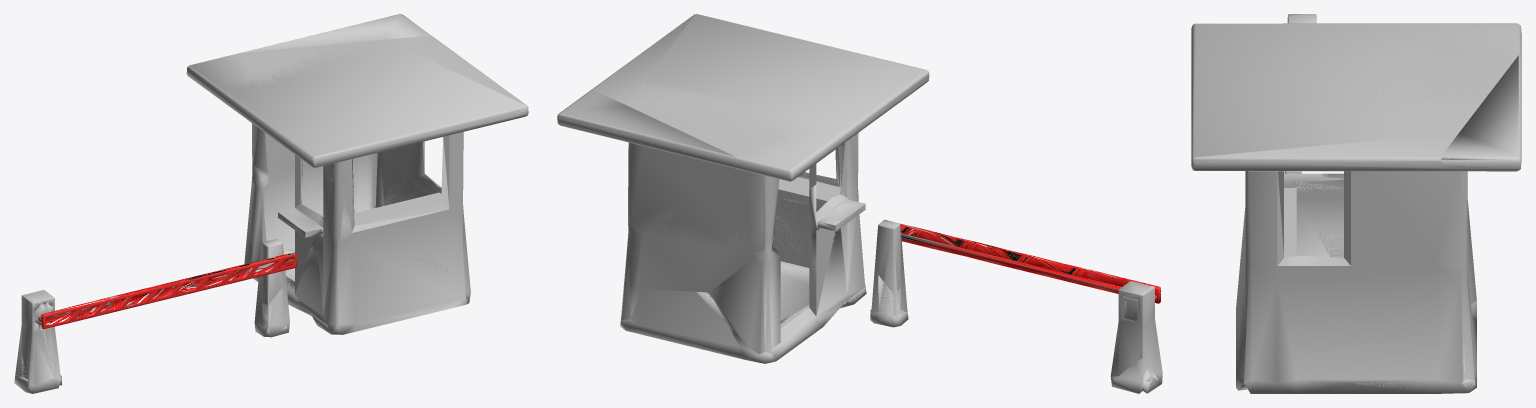
Rendered from Checkpoint.fbx.
The picture shows the model from 3 angles, left to right: view 1: azimuth 30°, elevation 25°; view 2: azimuth 150°, elevation 25°; view 3: azimuth 270°, elevation 25°; orthographic projection. The views are drawn at different scales.
Visible parts, largest first — view 1: Guard House, Guard House_cell, Guard House_cell.004, Gate Stands, Gate Fence, Guard House_cell.003, Guard House_cell.001, Gate Stands_cell, Gate Stands_cell.003, Gate Fence_cell.007; view 2: Guard House, Guard House_cell, Guard House_cell.004, Guard House_cell.001, Gate Stands, Gate Fence, Guard House_cell.003, Guard House_cell.002, Gate Stands_cell.003, Gate Stands_cell.002, Gate Stands_cell.004, Gate Fence_cell.007 (+1 smaller); view 3: Guard House, Guard House_cell.004, Guard House_cell.003, Guard House_cell.001, Guard House_cell, Guard House_cell.002, Gate Stands.
Boxes of the visible parts, x1,y1,x2,y2 form: Guard House: [186, 36, 526, 334]; Guard House_cell: [245, 123, 463, 334]; Guard House_cell.004: [186, 35, 528, 167]; Gate Stands: [14, 239, 289, 393]; Gate Fence: [38, 252, 296, 329]; Guard House_cell.003: [239, 14, 431, 53]; Guard House_cell.001: [262, 177, 447, 315]; Gate Stands_cell: [21, 290, 61, 393]; Gate Stands_cell.003: [262, 239, 282, 304]; Gate Fence_cell.007: [232, 254, 297, 279]; Guard House: [557, 14, 929, 354]; Guard House_cell: [620, 134, 866, 363]; Guard House_cell.004: [593, 15, 928, 179]; Guard House_cell.001: [710, 133, 864, 363]; Gate Stands: [871, 220, 1162, 393]; Gate Fence: [882, 219, 1160, 302]; Guard House_cell.003: [558, 90, 736, 158]; Guard House_cell.002: [620, 287, 742, 359]; Gate Stands_cell.003: [878, 223, 900, 292]; Gate Stands_cell.002: [870, 275, 908, 327]; Gate Stands_cell.004: [1110, 359, 1152, 393]; Gate Fence_cell.007: [900, 224, 953, 251]; Guard House: [1191, 23, 1521, 393]; Guard House_cell.004: [1191, 23, 1518, 171]; Guard House_cell.003: [1441, 55, 1520, 168]; Guard House_cell.001: [1292, 173, 1476, 318]; Guard House_cell: [1245, 171, 1476, 392]; Guard House_cell.002: [1236, 329, 1476, 393]; Gate Stands: [1284, 14, 1316, 173].
Bounding box in the file's own units: 1224 × 503 × 580.
